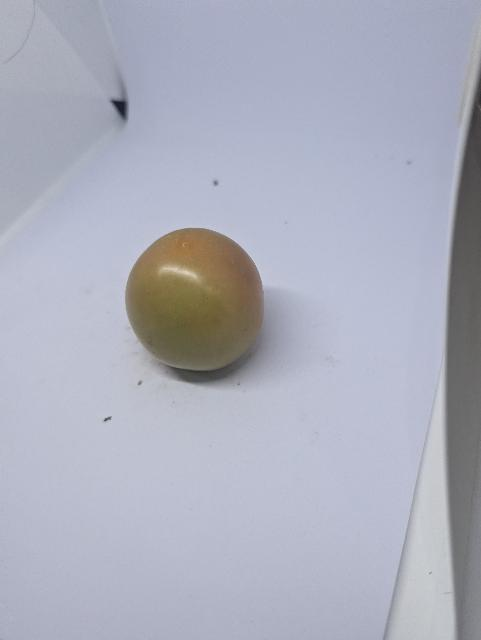breaker: (126, 228, 264, 371)
